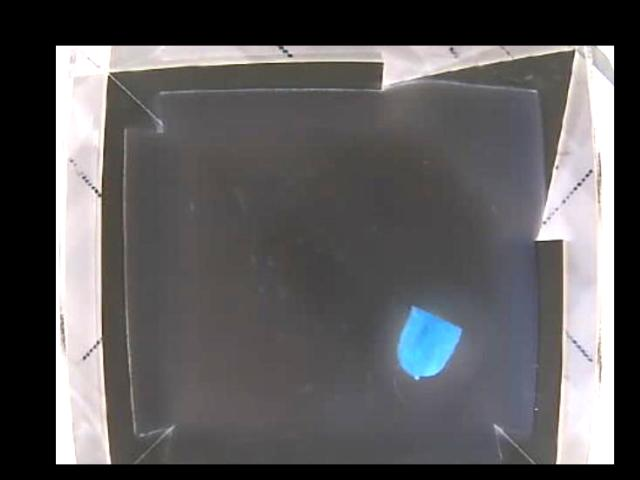Carrot: (396, 305, 463, 379)
